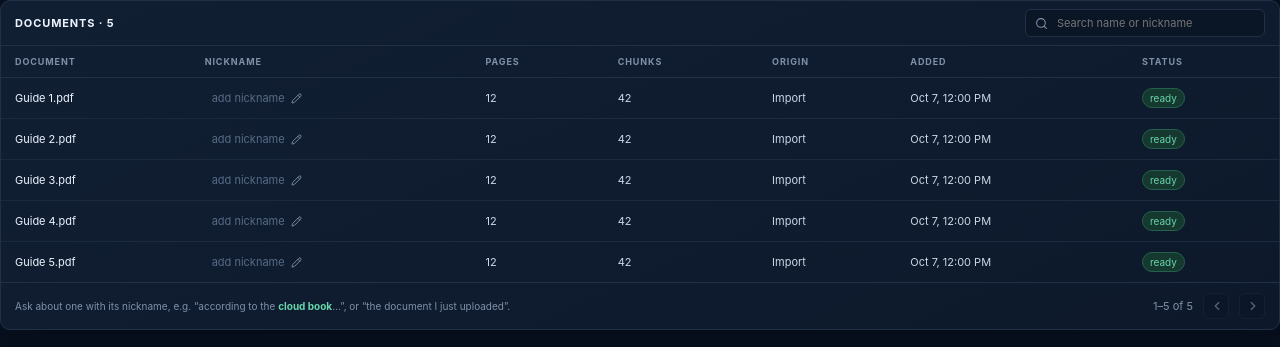
DocumentsTable search › dropping the search term returns to the full list
The image size is (1280, 347).
Expected: the text "Guide 1.pdf" is shown, [1,78,191,118]
Type "guide 2" into the field with placeholder "Search name or nickname" at (1155, 23), box [1055,15,1255,31]
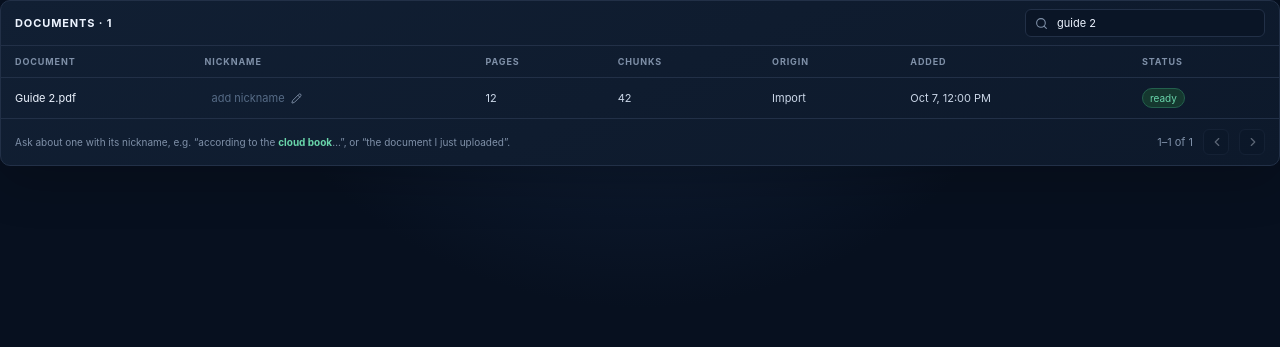
Now the text "Documents · 1" is shown, box [15,16,112,30]
Clear the field with placeholder "Search name or nickname" at (1155, 23), box [1055,15,1255,31]
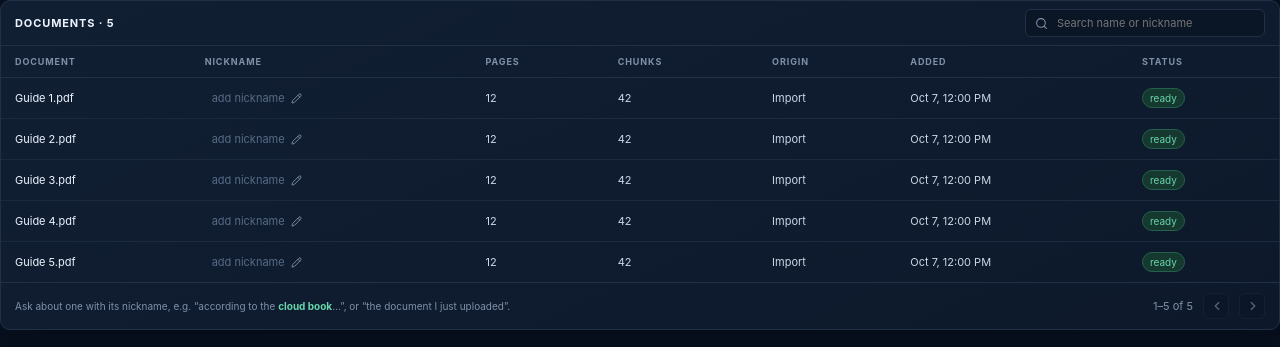
Now the text "Documents · 5" is shown, box [15,16,115,30]
